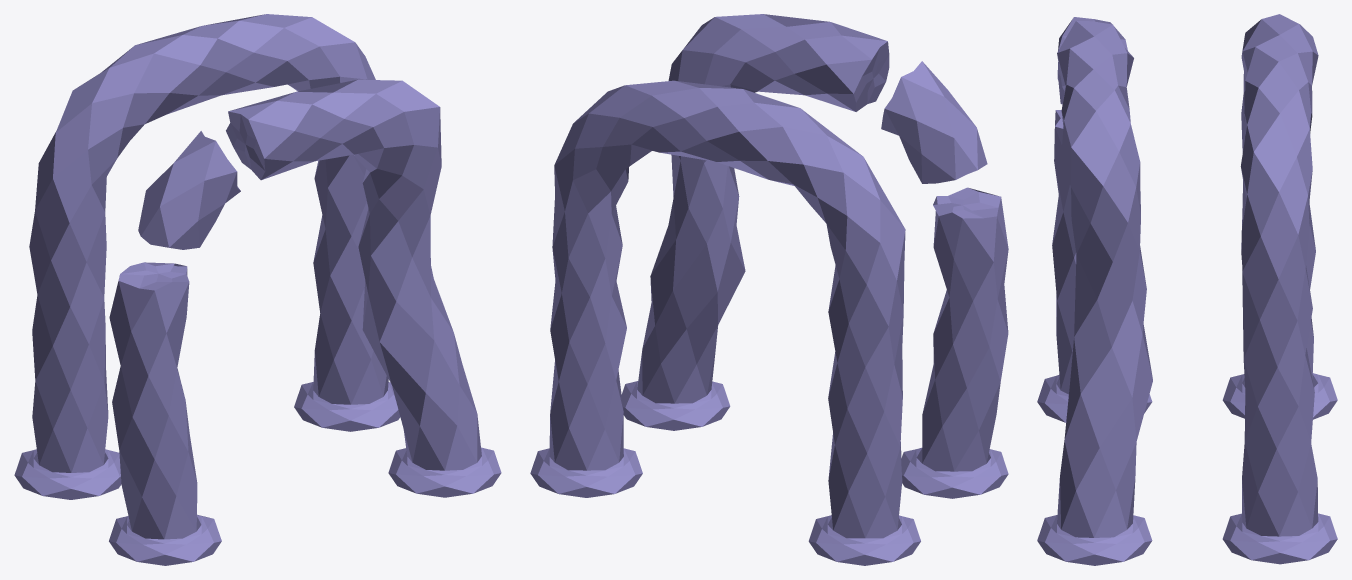
Rendered from ENV_Arches_Placeholder2.fbx.
3 views of the same model, side by side, from view 1: azimuth 30°, elevation 25°; view 2: azimuth 150°, elevation 25°; view 3: azimuth 270°, elevation 25° (orthographic). The views are drawn at different scales.
Visible parts, largest first — view 1: Column.004, Column.001; view 2: Column.001, Column.004; view 3: Column.004, Column.001.
Boxes of the visible parts, box(x1,y1,x2,y2) form: Column.004: box(109, 79, 501, 565); Column.001: box(14, 14, 400, 499); Column.001: box(530, 80, 920, 565); Column.004: box(621, 14, 1008, 498); Column.004: box(1037, 17, 1152, 565); Column.001: box(1222, 14, 1337, 564).
Size of the model in its own units: 390 by 581 by 606.
